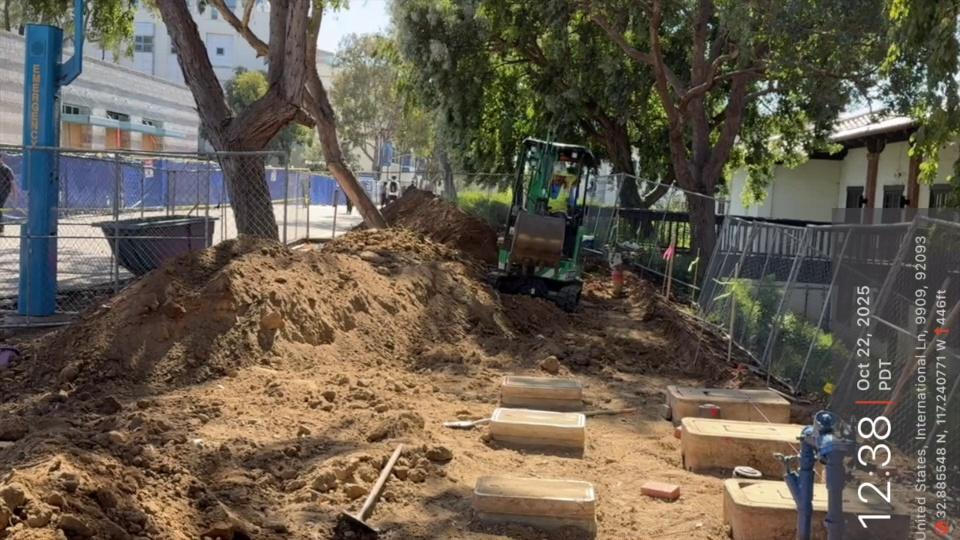Exacavator: (485, 134, 599, 313)
